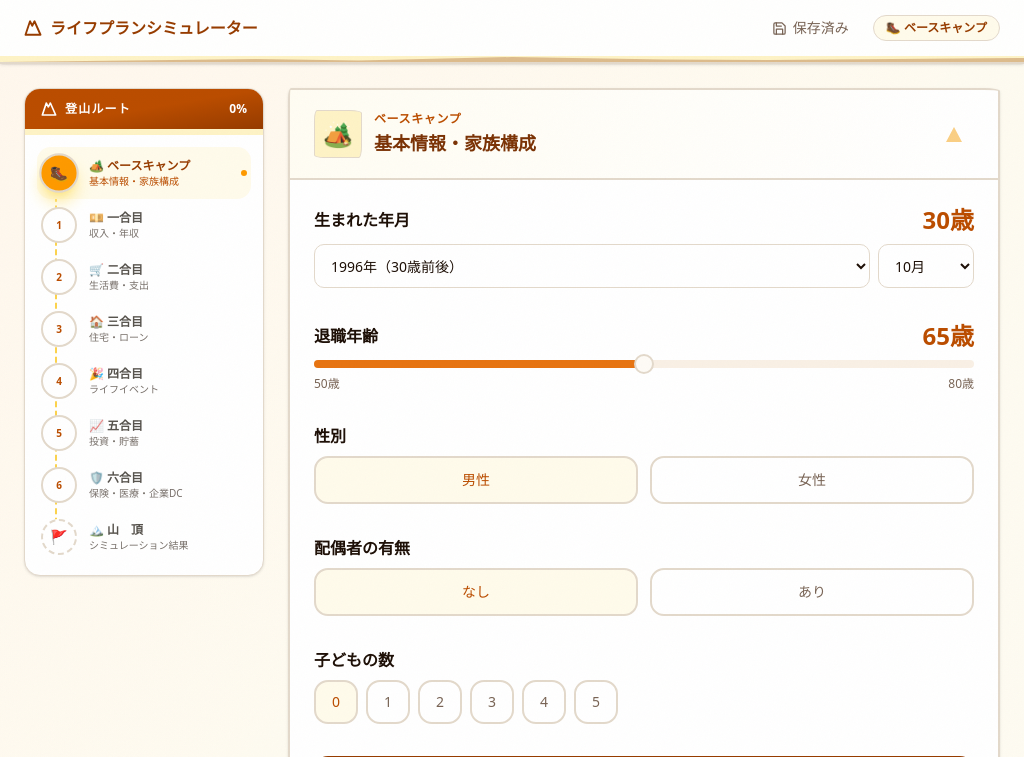
jumping between steps › the desktop trail opens the chosen step and marks it current
Click the button "3 🏠 三合目 住宅・ローン": (144, 329) [37,303,251,355]
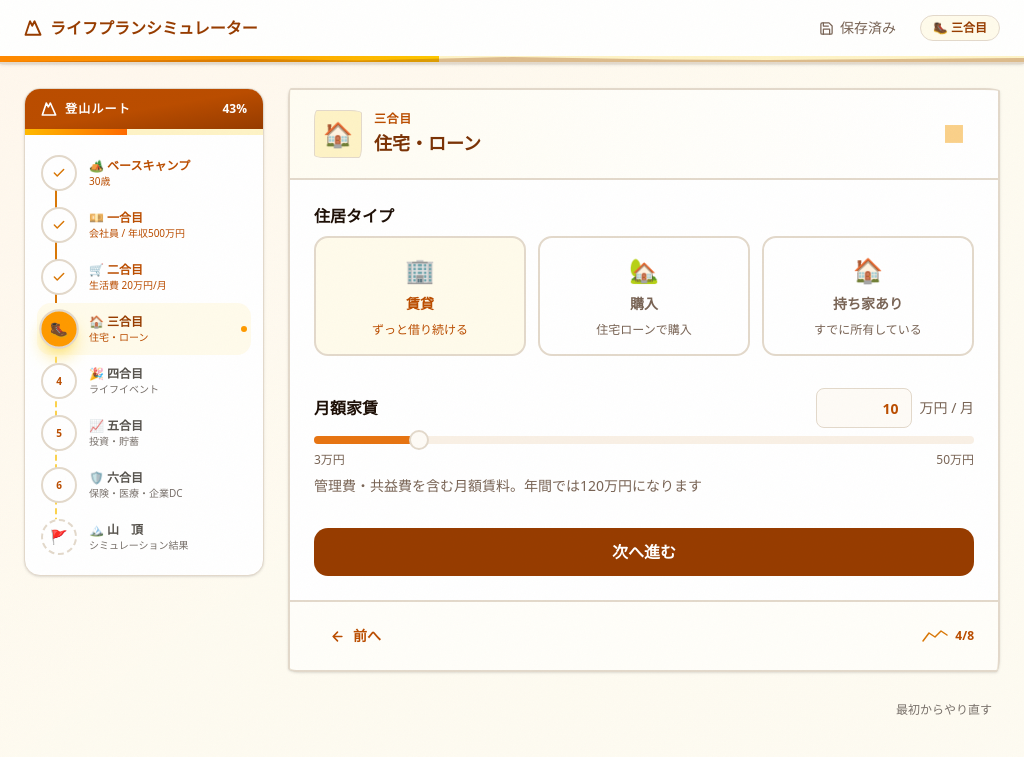
Now the heading "住宅・ローン" is shown, box [374,131,481,155]
